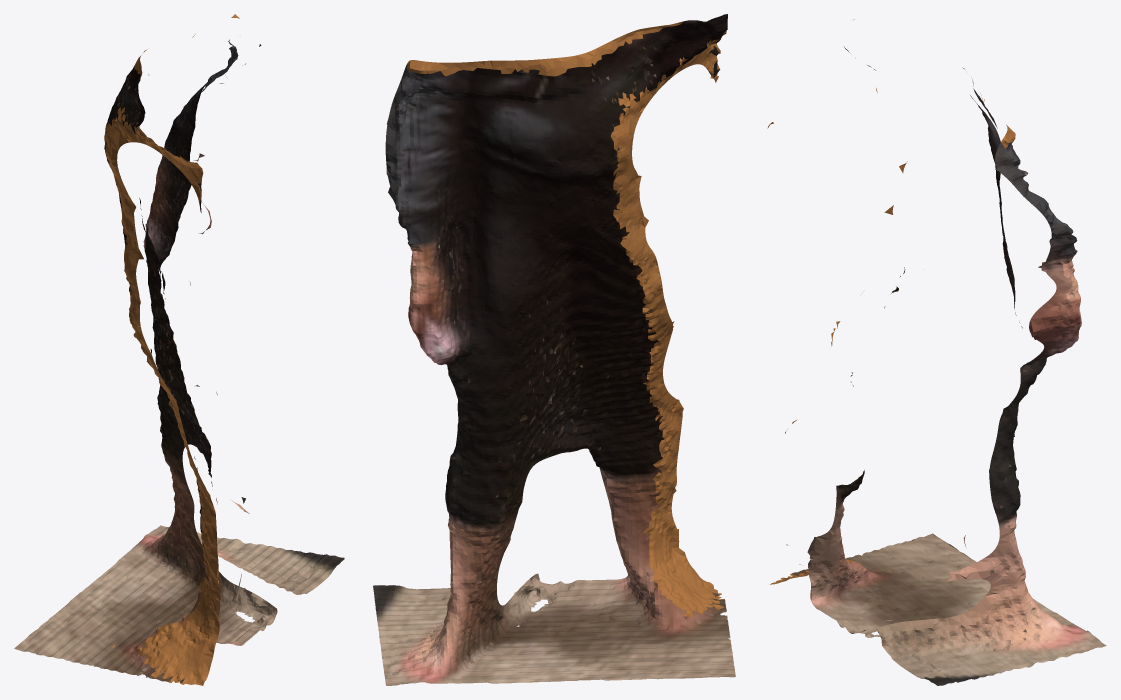
The picture shows the model from 3 angles, left to right: view 1: azimuth 30°, elevation 25°; view 2: azimuth 150°, elevation 25°; view 3: azimuth 270°, elevation 25°; orthographic projection. The views are drawn at different scales.
Bounding box in the file's own units: 0.6747 × 1.09 × 0.6167.
Materials: 1 (1 with a texture image).
